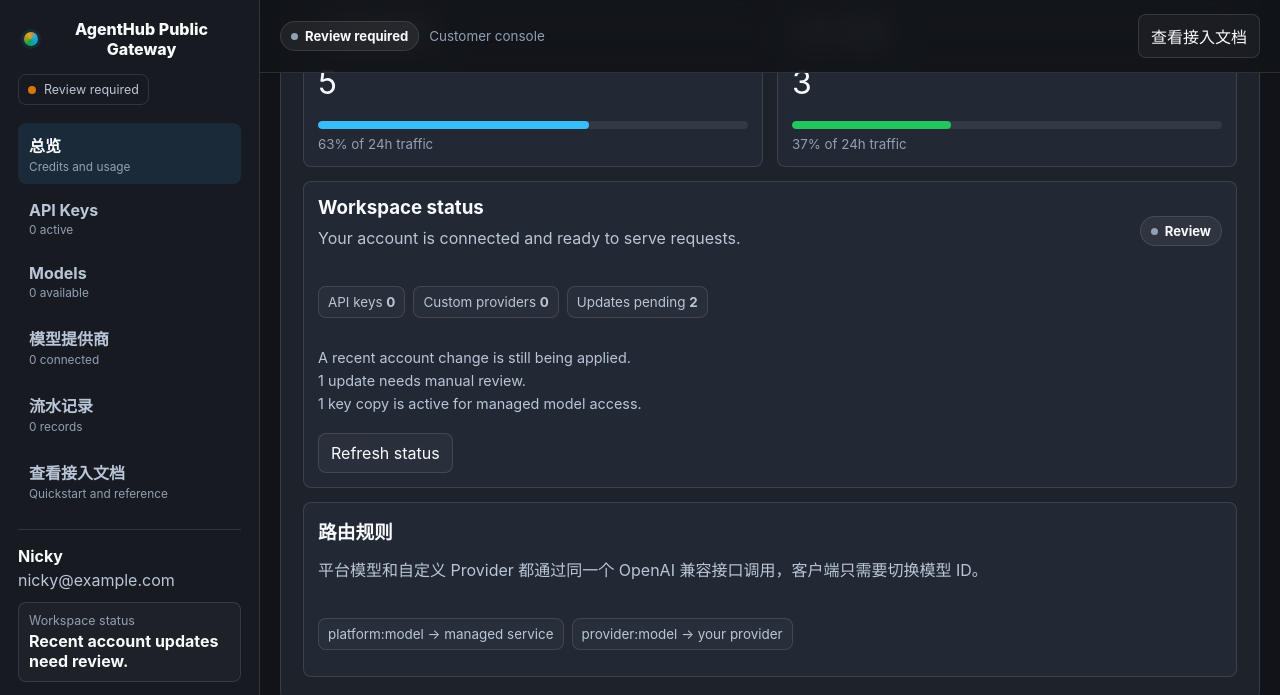
Test case: PortalShell › retries account sync from dashboard
(page scrolled)
Click the button "Refresh status" at (385, 453), box top-left (318, 433), bottom-right (453, 473)
(page scrolled)
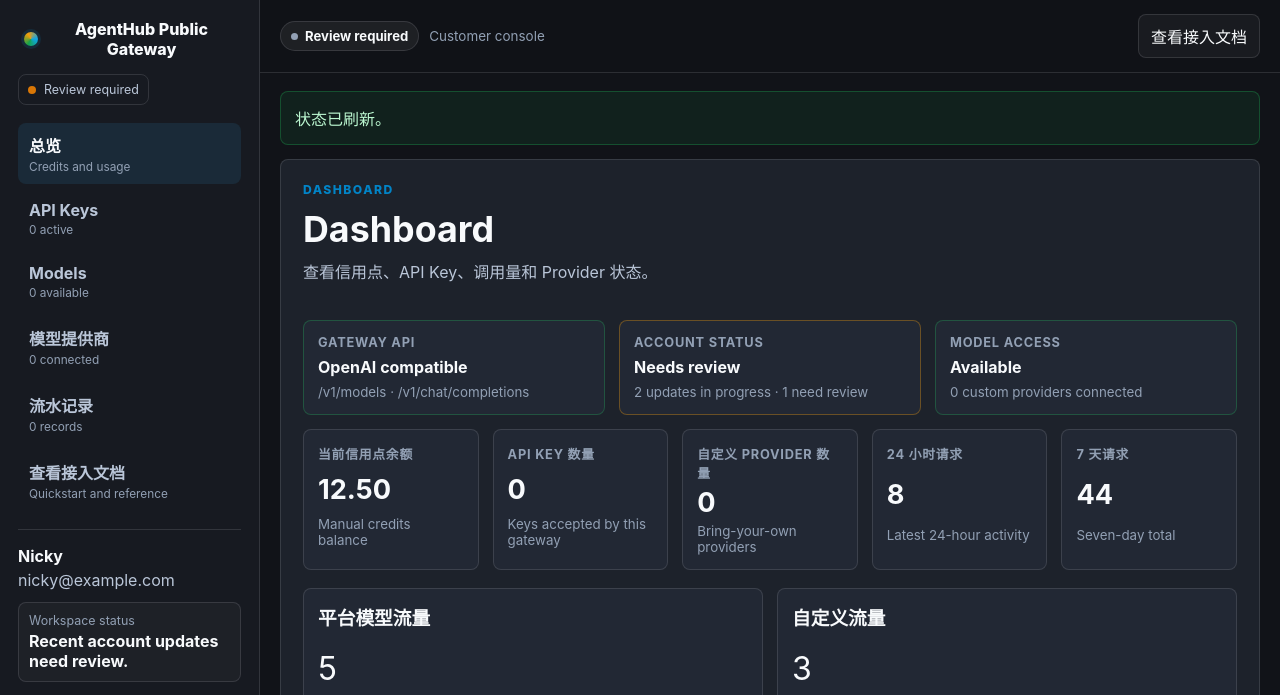
Expected: the text "状态已刷新。" is shown, top-left (280, 91), bottom-right (1260, 145)
